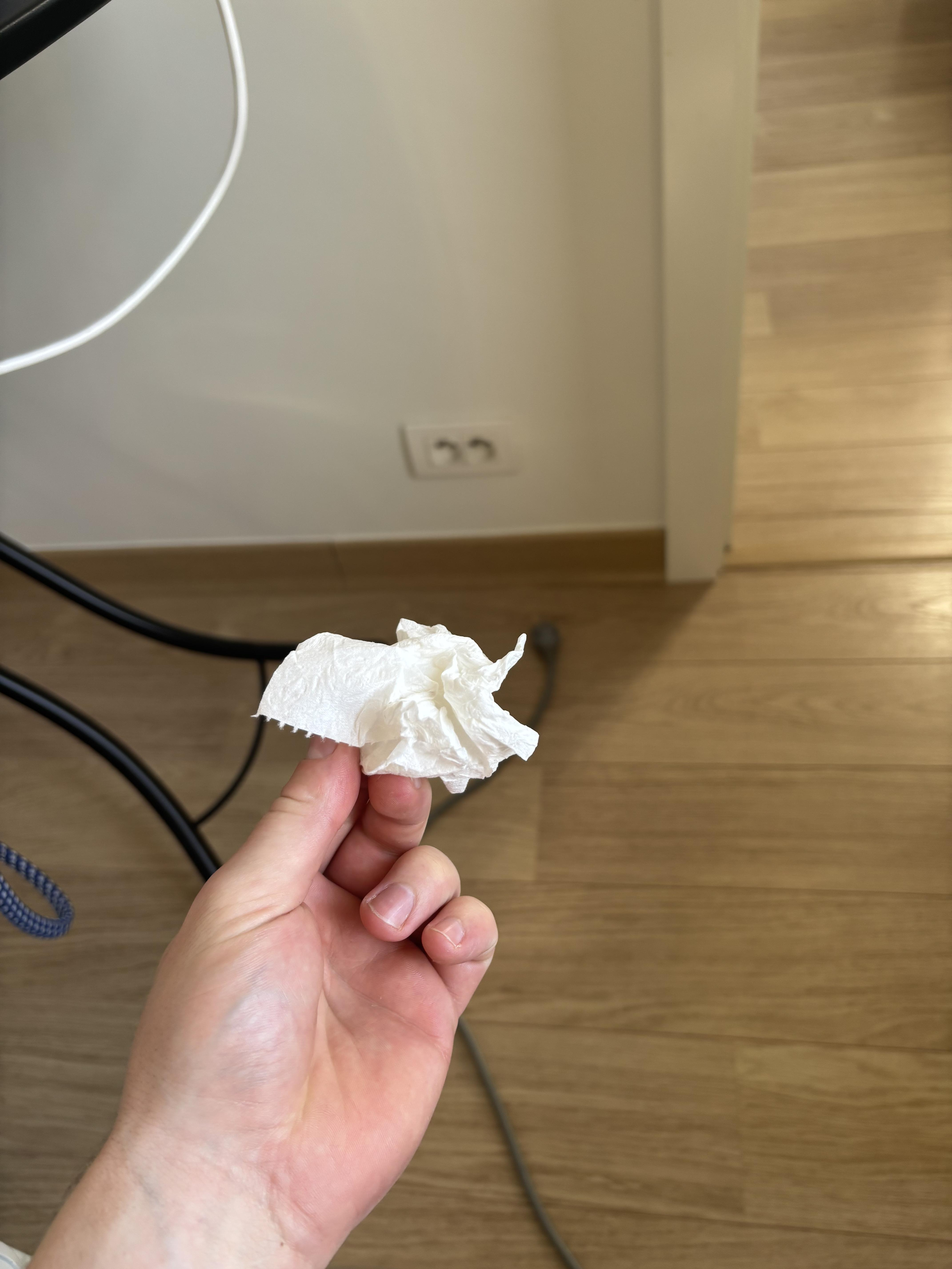Paper: (256, 606, 560, 802)
